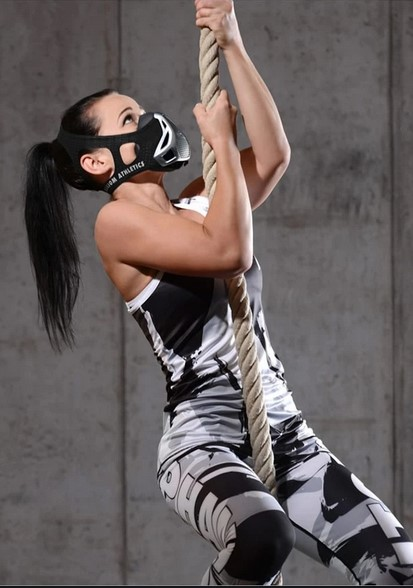face_with_mask: (55, 86, 193, 195)
